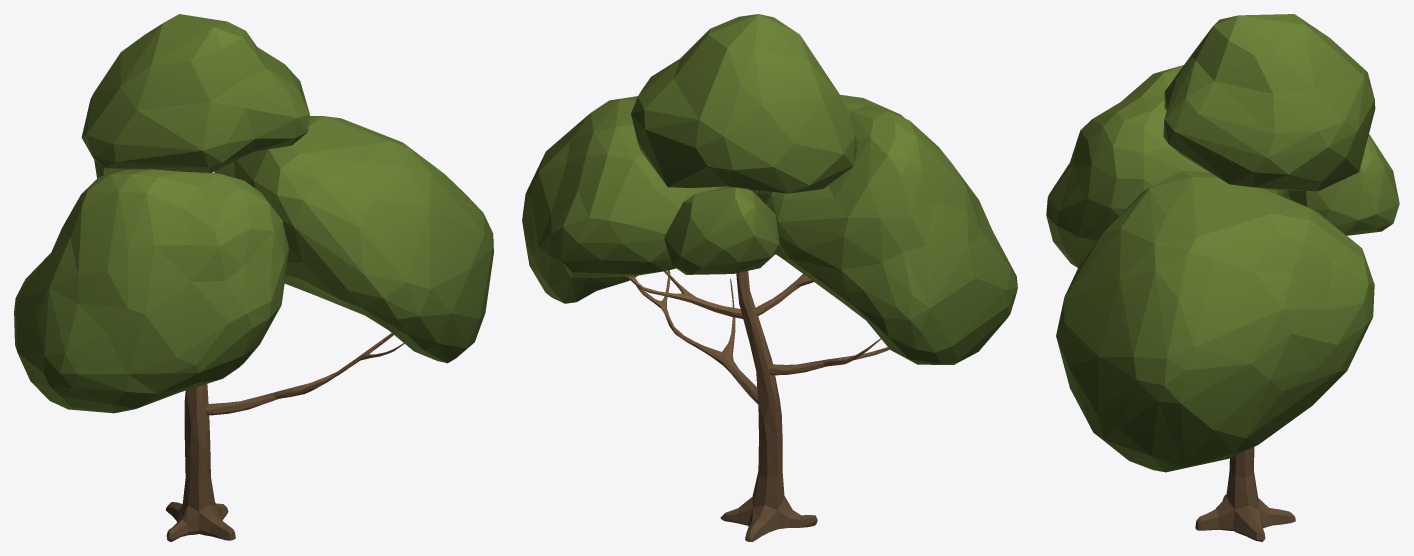
Rendered from Summer_Tree_10.glb.
3 renders of one model, left to right at view 1: azimuth 30°, elevation 25°; view 2: azimuth 150°, elevation 25°; view 3: azimuth 270°, elevation 25°, orthographic. The views are drawn at different scales.
Visible parts, largest first — view 1: Summer_Tree_10_LOD0; view 2: Summer_Tree_10_LOD0; view 3: Summer_Tree_10_LOD0.
Part boxes in pixels (box(x1,y1,x2,y2)): Summer_Tree_10_LOD0: box(14, 14, 493, 541); Summer_Tree_10_LOD0: box(522, 14, 1017, 541); Summer_Tree_10_LOD0: box(1046, 14, 1399, 541).
Size of what is drawn, in the model's own units: 12.47 by 13.05 by 8.14.
Materials: 1 (1 with a texture image).
